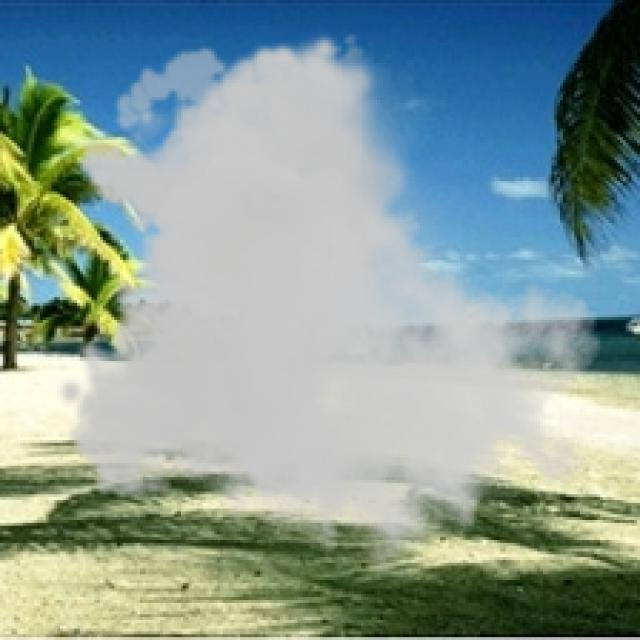Smoke: (54, 31, 603, 598)
